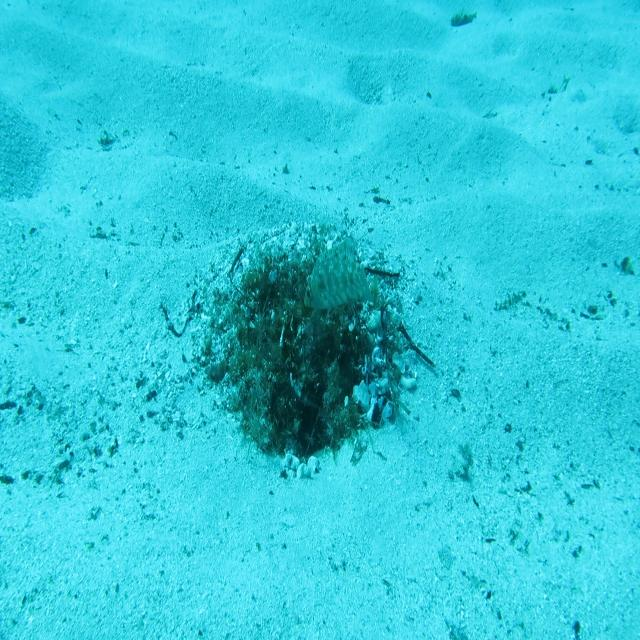core_nest: (271, 276, 320, 318)
nest: (178, 214, 423, 492)
vegetation: (448, 11, 477, 29)
